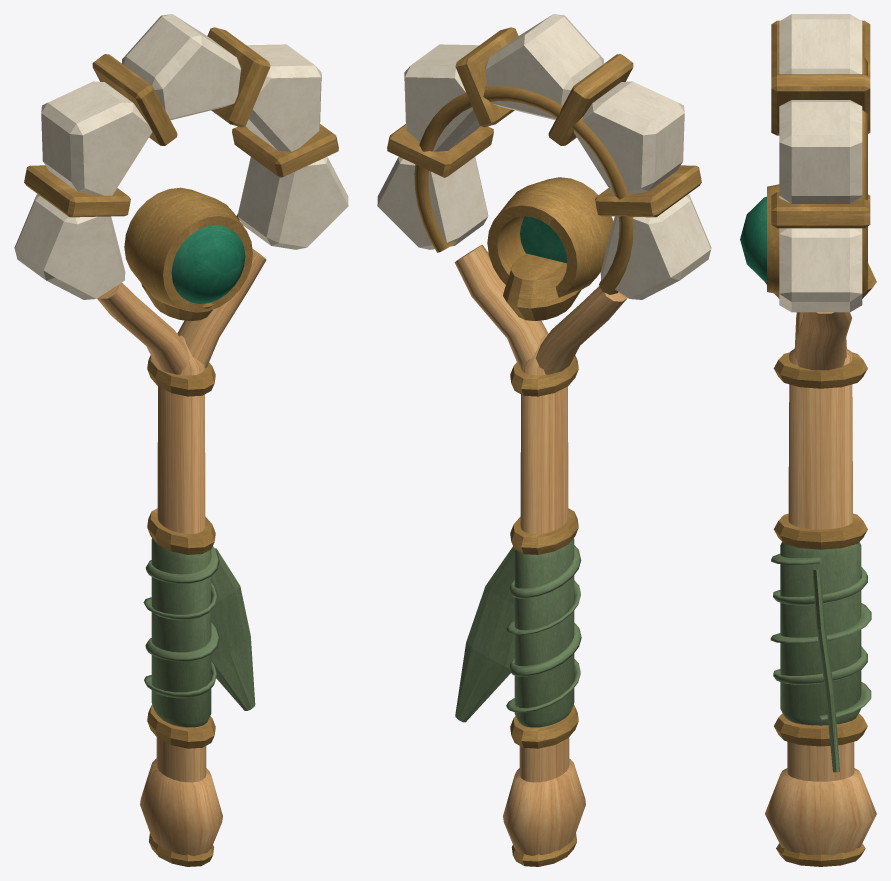
Rendered from healing_staff.obj.
The picture shows the model from 3 angles, left to right: view 1: azimuth 30°, elevation 25°; view 2: azimuth 150°, elevation 25°; view 3: azimuth 270°, elevation 25°; orthographic projection.
Parts seen in each view (by area): view 1: E_ChunkyCeramicPetal_3.001_healing_staff_ivory, A_HoneyWoodShaft.001_healing_staff_ash_wood, B_SageGreenClothGrip.001_healing_staff_green_cloth, E_ChunkyCeramicPetal_2.001_healing_staff_ivory, H_JadeSeatRim.001_healing_staff_brass, E_ChunkyCeramicPetal_4.001_healing_staff_ivory, E_ChunkyCeramicPetal_0.001_healing_staff_ivory, E_ChunkyCeramicPetal_1.001_healing_staff_ivory, L_CarvedBulbousWoodButt.001_healing_staff_ash_wood, I_ConvexJadeMedallion.001_healing_staff_jade, K_BroadGreenTrailingCloth.001_healing_staff_green_cloth, D_BranchingWoodShoulder_-1.001_healing_staff_ash_wood (+11 smaller); view 2: A_HoneyWoodShaft.001_healing_staff_ash_wood, B_SageGreenClothGrip.001_healing_staff_green_cloth, H_JadeSeatRim.001_healing_staff_brass, E_ChunkyCeramicPetal_3.001_healing_staff_ivory, E_ChunkyCeramicPetal_2.001_healing_staff_ivory, E_ChunkyCeramicPetal_4.001_healing_staff_ivory, E_ChunkyCeramicPetal_0.001_healing_staff_ivory, F_RearBrassHaloSupport.001_healing_staff_brass, K_BroadGreenTrailingCloth.001_healing_staff_green_cloth, L_CarvedBulbousWoodButt.001_healing_staff_ash_wood, E_ChunkyCeramicPetal_1.001_healing_staff_ivory, D_BranchingWoodShoulder_1.001_healing_staff_ash_wood (+12 smaller); view 3: A_HoneyWoodShaft.001_healing_staff_ash_wood, B_SageGreenClothGrip.001_healing_staff_green_cloth, E_ChunkyCeramicPetal_1.001_healing_staff_ivory, L_CarvedBulbousWoodButt.001_healing_staff_ash_wood, E_ChunkyCeramicPetal_0.001_healing_staff_ivory, E_ChunkyCeramicPetal_2.001_healing_staff_ivory, B_SageGreenClothGrip_ActualRaisedWrap.001_healing_staff_green_cl, G_ActualPetalClip_1.001_healing_staff_brass, D_BranchingWoodShoulder_1.001_healing_staff_ash_wood, G_ActualPetalClip_0.001_healing_staff_brass, C_WarmBrassJoin_1.001_healing_staff_brass, C_WarmBrassJoin_2.001_healing_staff_brass (+7 smaller).
Boxes of the visible parts, <box> form: E_ChunkyCeramicPetal_3.001_healing_staff_ivory: <box>41,81,152,195</box>; A_HoneyWoodShaft.001_healing_staff_ash_wood: <box>156,335,206,782</box>; B_SageGreenClothGrip.001_healing_staff_green_cloth: <box>151,538,211,727</box>; E_ChunkyCeramicPetal_2.001_healing_staff_ivory: <box>122,14,241,120</box>; H_JadeSeatRim.001_healing_staff_brass: <box>124,187,252,312</box>; E_ChunkyCeramicPetal_4.001_healing_staff_ivory: <box>14,194,125,299</box>; E_ChunkyCeramicPetal_0.001_healing_staff_ivory: <box>237,157,348,249</box>; E_ChunkyCeramicPetal_1.001_healing_staff_ivory: <box>246,44,321,151</box>; L_CarvedBulbousWoodButt.001_healing_staff_ash_wood: <box>140,758,222,855</box>; I_ConvexJadeMedallion.001_healing_staff_jade: <box>171,225,245,303</box>; K_BroadGreenTrailingCloth.001_healing_staff_green_cloth: <box>211,548,255,710</box>; D_BranchingWoodShoulder_-1.001_healing_staff_ash_wood: <box>97,282,190,374</box>; A_HoneyWoodShaft.001_healing_staff_ash_wood: <box>519,335,569,782</box>; B_SageGreenClothGrip.001_healing_staff_green_cloth: <box>514,538,574,727</box>; H_JadeSeatRim.001_healing_staff_brass: <box>487,177,613,297</box>; E_ChunkyCeramicPetal_3.001_healing_staff_ivory: <box>573,81,684,195</box>; E_ChunkyCeramicPetal_2.001_healing_staff_ivory: <box>484,14,603,120</box>; E_ChunkyCeramicPetal_4.001_healing_staff_ivory: <box>600,194,711,299</box>; E_ChunkyCeramicPetal_0.001_healing_staff_ivory: <box>377,157,488,249</box>; F_RearBrassHaloSupport.001_healing_staff_brass: <box>414,85,633,294</box>; K_BroadGreenTrailingCloth.001_healing_staff_green_cloth: <box>455,546,514,722</box>; L_CarvedBulbousWoodButt.001_healing_staff_ash_wood: <box>503,758,585,855</box>; E_ChunkyCeramicPetal_1.001_healing_staff_ivory: <box>404,44,479,151</box>; D_BranchingWoodShoulder_1.001_healing_staff_ash_wood: <box>454,244,548,368</box>; A_HoneyWoodShaft.001_healing_staff_ash_wood: <box>787,348,854,781</box>; B_SageGreenClothGrip.001_healing_staff_green_cloth: <box>780,542,861,725</box>; E_ChunkyCeramicPetal_1.001_healing_staff_ivory: <box>779,100,862,203</box>; L_CarvedBulbousWoodButt.001_healing_staff_ash_wood: <box>765,768,876,854</box>; E_ChunkyCeramicPetal_0.001_healing_staff_ivory: <box>779,228,862,312</box>; E_ChunkyCeramicPetal_2.001_healing_staff_ivory: <box>779,14,862,74</box>; B_SageGreenClothGrip_ActualRaisedWrap.001_healing_staff_green_cl: <box>770,553,871,720</box>; G_ActualPetalClip_1.001_healing_staff_brass: <box>771,74,870,132</box>; D_BranchingWoodShoulder_1.001_healing_staff_ash_wood: <box>794,312,851,370</box>; G_ActualPetalClip_0.001_healing_staff_brass: <box>771,192,870,228</box>; C_WarmBrassJoin_1.001_healing_staff_brass: <box>773,513,867,549</box>; C_WarmBrassJoin_2.001_healing_staff_brass: <box>773,352,867,388</box>.
Bounding box in the file's own units: 2.44 × 6.31 × 0.9331.
